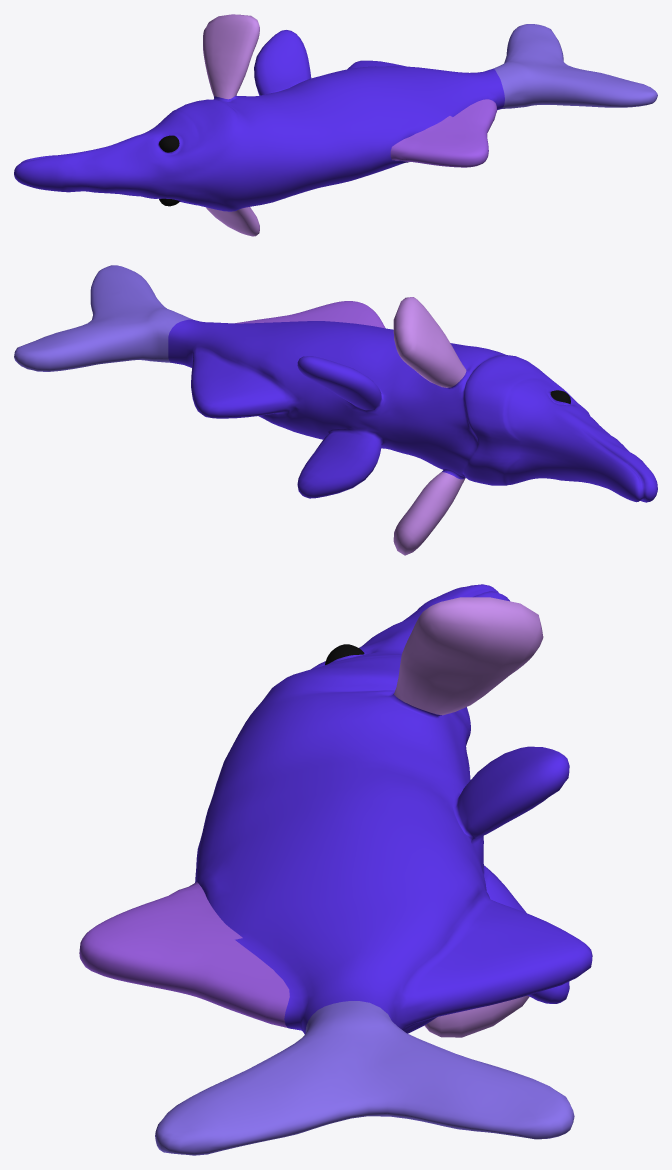
The model's file is FishTexturedJoin.fbx.
3 renders of one model, top to bottom at view 1: azimuth 30°, elevation 25°; view 2: azimuth 150°, elevation 25°; view 3: azimuth 270°, elevation 25°, orthographic. The views are drawn at different scales.
Parts seen in each view (by area): view 1: Fish; view 2: Fish; view 3: Fish.
Part boxes in pixels (box(x1,y1,x2,y2)): Fish: box(14, 14, 657, 236); Fish: box(14, 265, 657, 555); Fish: box(79, 584, 592, 1155).
Bounding box in the file's own units: 1903 × 704 × 749.
